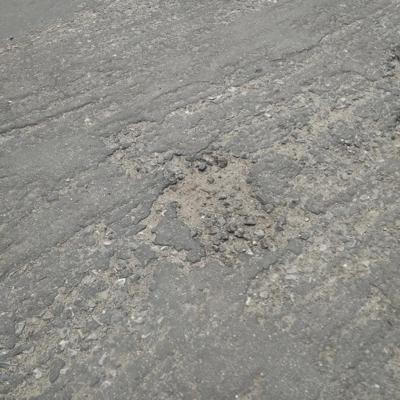Pothole: (98, 94, 331, 325)
